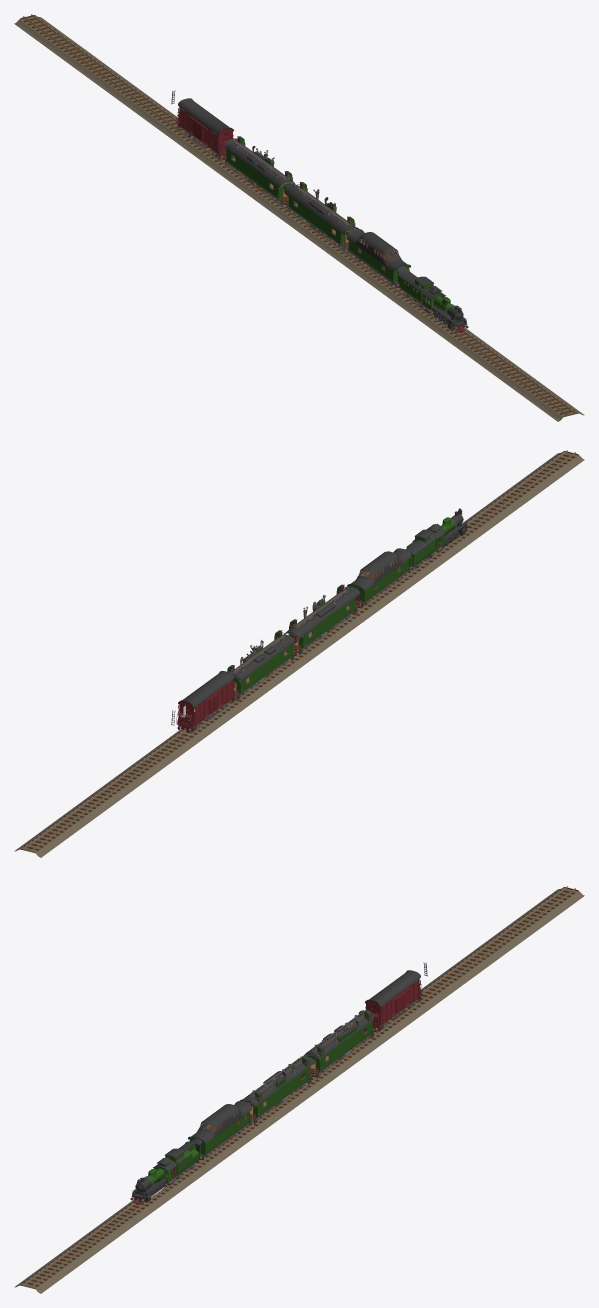
The model's file is Spoor_Train_complete.fbx.
The picture shows the model from 3 angles, top to bottom: view 1: azimuth 30°, elevation 25°; view 2: azimuth 150°, elevation 25°; view 3: azimuth 330°, elevation 25°; orthographic projection.
Parts seen in each view (by area): view 1: Cube.098, Cube.096, Cube.095, Cube.064, FRONT WALL 4, FRONT WALL 3, FRONT WALL2, Cube.107; view 2: Cube.098, Cube.096, Cube.095, Cube.064, FRONT WALL2, FRONT WALL 3, FRONT WALL 4, Cube.107; view 3: Cube.098, Cube.096, Cube.095, Cube.107, WALL DIMENSIONS.007, WALL DIMENSIONS.002, Cube.082, WALL DIMENSIONS.001.
Part boxes in pixels (x1,y1,x2,y2): Cube.098: (14,15,584,421); Cube.096: (20,15,578,416); Cube.095: (23,14,575,415); Cube.064: (178,98,227,152); FRONT WALL 4: (347,232,399,282); FRONT WALL 3: (288,189,343,243); FRONT WALL2: (226,144,281,198); Cube.107: (349,229,410,267); Cube.098: (14,451,584,857); Cube.096: (20,451,578,852); Cube.095: (23,450,575,851); Cube.064: (184,671,234,725); FRONT WALL2: (238,638,293,692); FRONT WALL 3: (301,592,355,646); FRONT WALL 4: (361,552,410,601); Cube.107: (347,548,408,587); Cube.098: (14,887,584,1293); Cube.096: (20,887,578,1288); Cube.095: (23,886,575,1287); Cube.107: (190,1101,251,1143); WALL DIMENSIONS.007: (307,1021,372,1070); WALL DIMENSIONS.002: (245,1066,310,1115); Cube.082: (380,979,419,1024); WALL DIMENSIONS.001: (240,1057,315,1106).
Bounding box in the file's own units: 1169 × 1570 × 40745.
